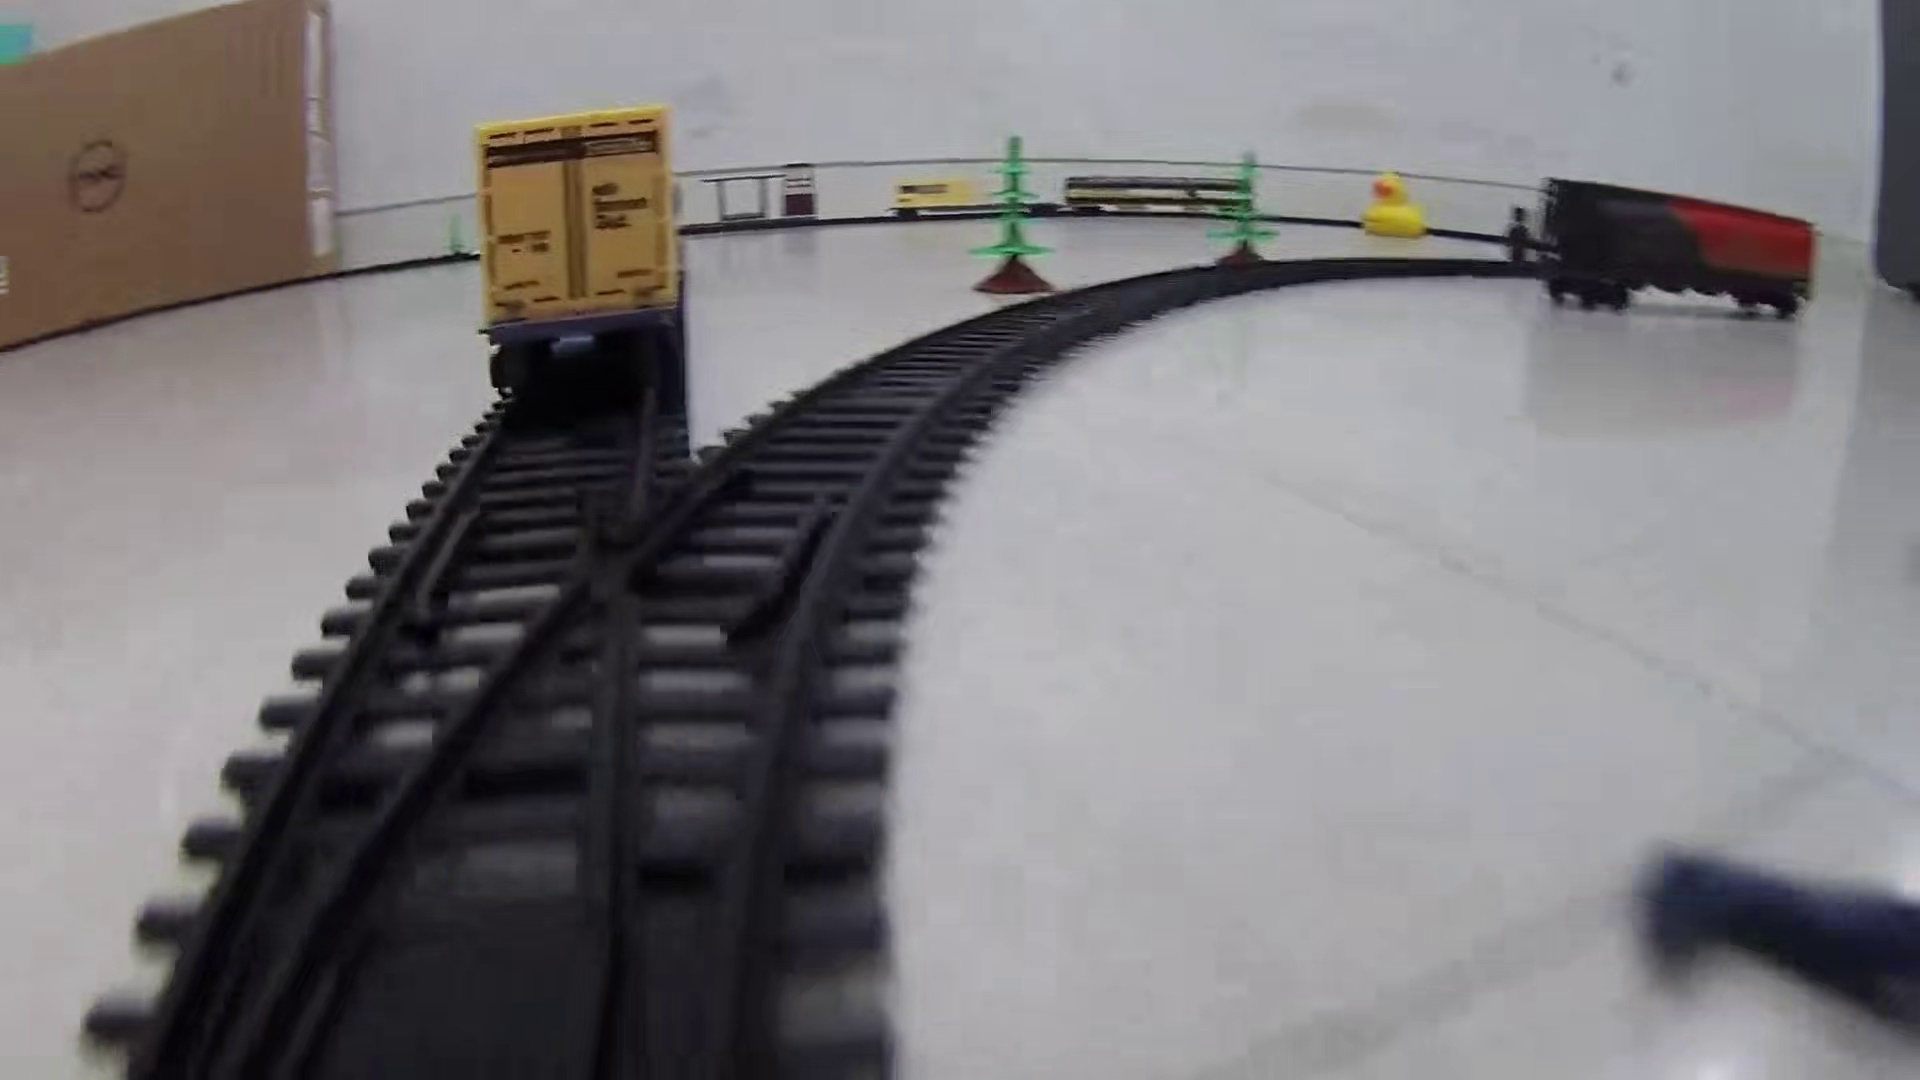tree: (966, 137, 1065, 297), (1210, 149, 1283, 268)
